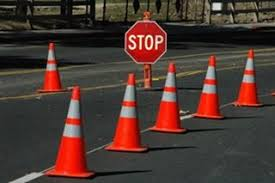cone: (44, 86, 102, 177), (103, 72, 151, 150), (148, 63, 191, 133), (193, 55, 225, 119), (232, 47, 265, 107), (38, 42, 68, 92)
